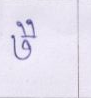ai_matra: (16, 20, 39, 35)
